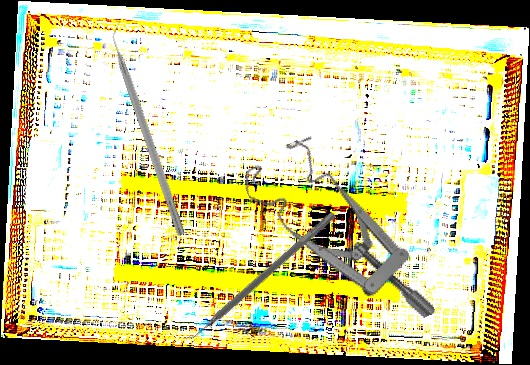Chopper: (104, 16, 197, 238)
Spatula Surgical: (179, 204, 337, 349)
Speculum: (235, 117, 437, 363)
